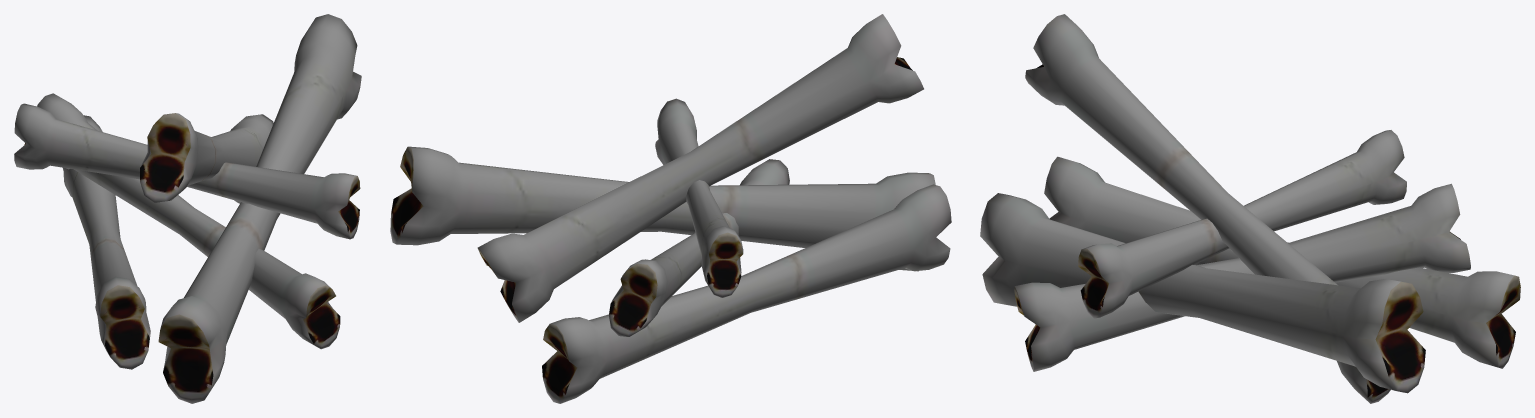
File: Dungeon_BonePile_1.glb
3 renders of one model, left to right at view 1: azimuth 30°, elevation 25°; view 2: azimuth 150°, elevation 25°; view 3: azimuth 270°, elevation 25°, orthographic. The views are drawn at different scales.
Parts seen in each view (by area): view 1: Dungeon_BonePile_1; view 2: Dungeon_BonePile_1; view 3: Dungeon_BonePile_1.
Boxes of the visible parts, <box> form: Dungeon_BonePile_1: <box>14,14,361,403</box>; Dungeon_BonePile_1: <box>390,14,951,403</box>; Dungeon_BonePile_1: <box>980,14,1520,403</box>.
Size of the model in its own units: 0.6316 by 0.3989 by 0.6682.
Materials: 1 (1 with a texture image).
